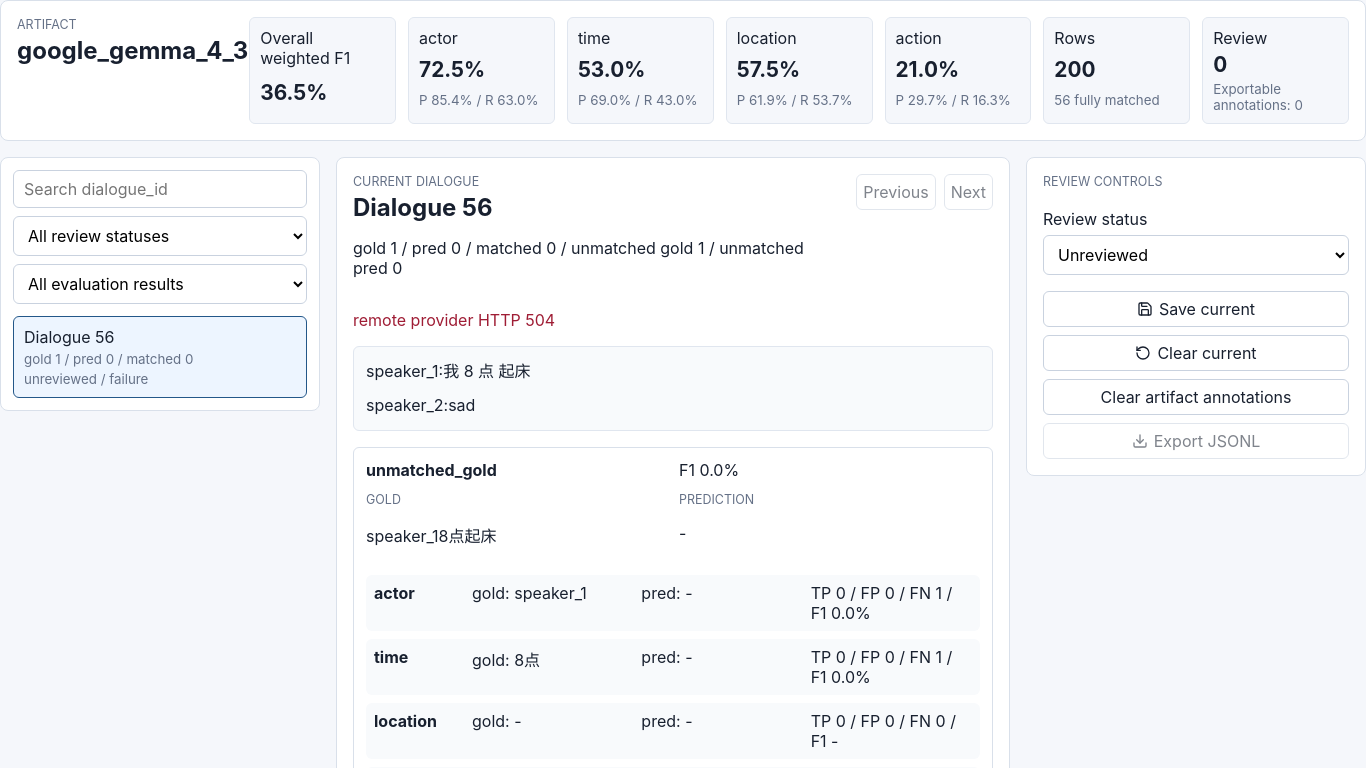
Test: Workbench › clears the current annotation back to unreviewed with no exportable records
Select "Has issue" in the dropdown labelled "Review status" at (1196, 255), box top-left (1043, 235), bottom-right (1349, 275)
(page scrolled)
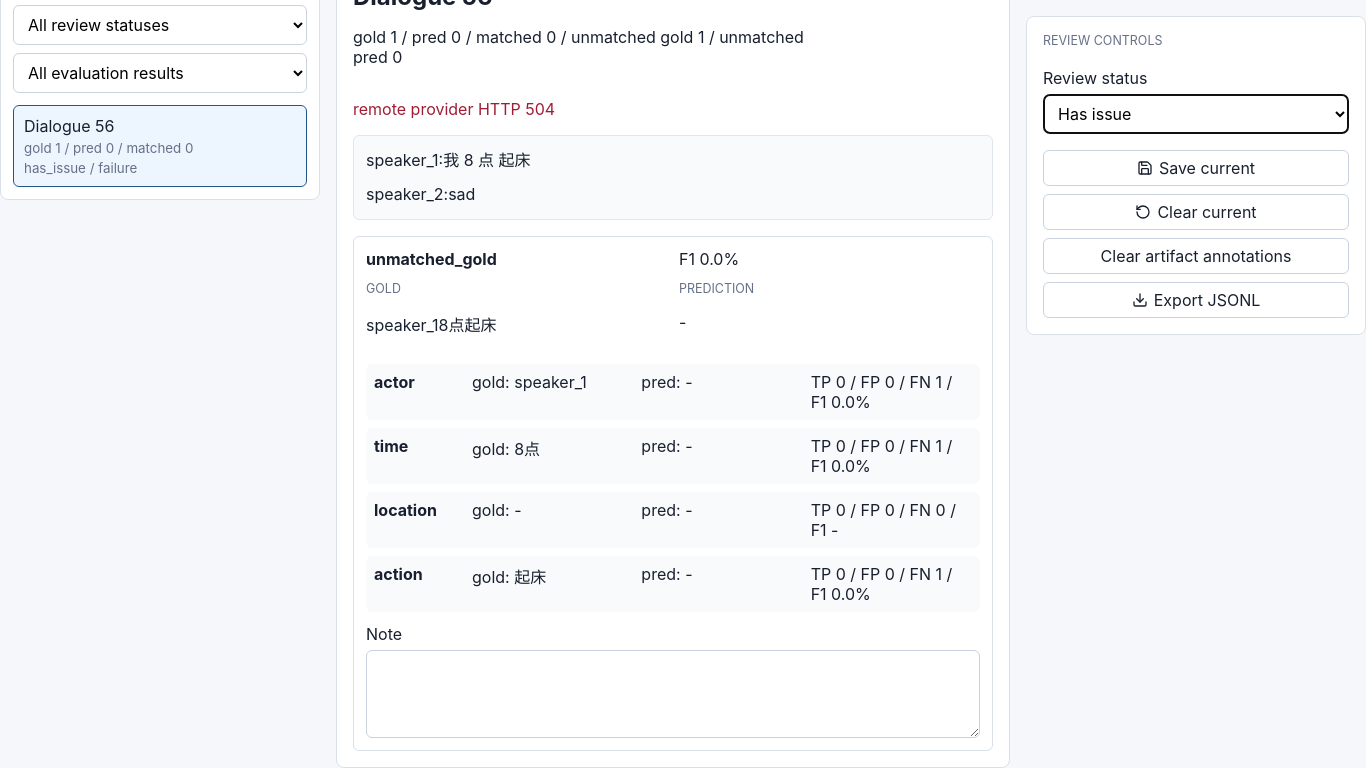
Type "needs review" into the text box named "Event 1 note" at (673, 694), box top-left (366, 650), bottom-right (980, 738)
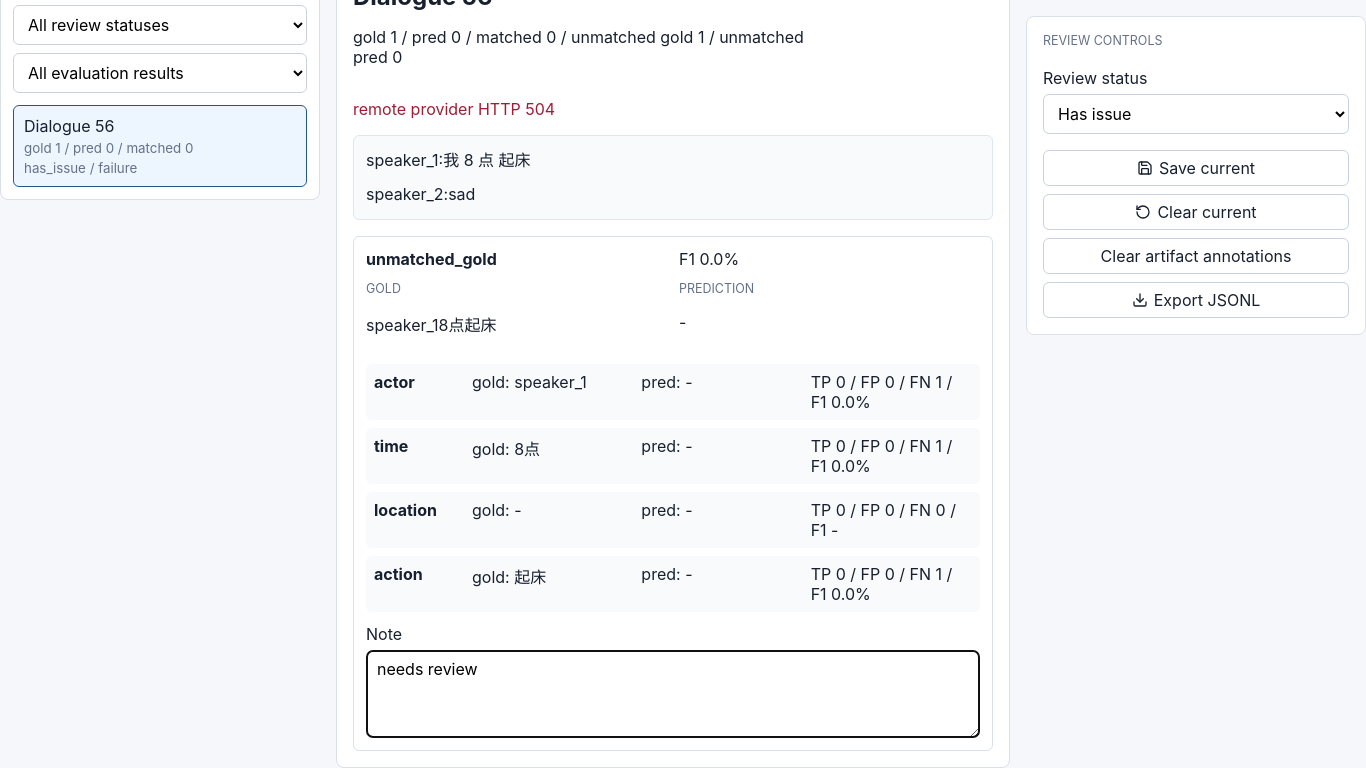
Click the button "Clear current" at (1196, 212), box top-left (1043, 194), bottom-right (1349, 230)
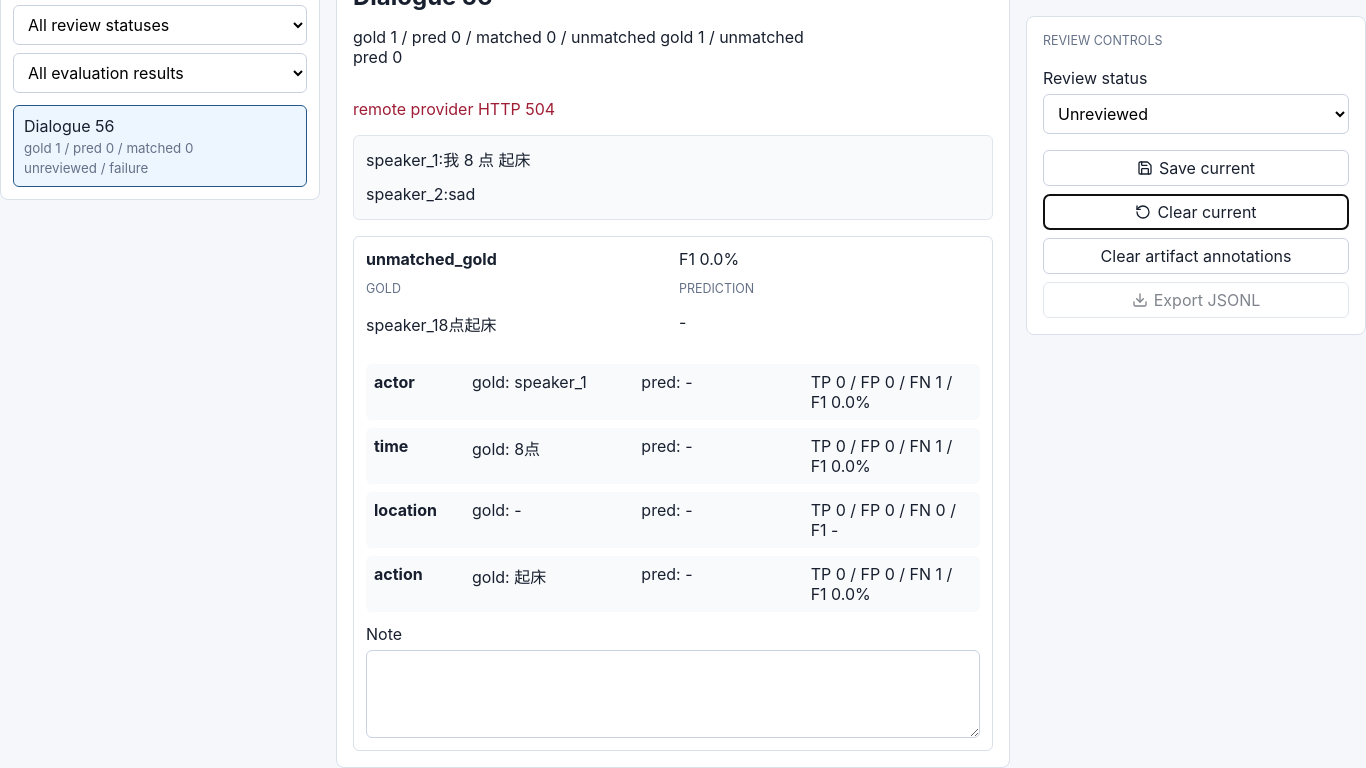
Expected: the text box named "Event 1 note" is empty, top-left (366, 650), bottom-right (980, 738)
Expected: the button "Export JSONL" is disabled, top-left (1043, 282), bottom-right (1349, 318)
